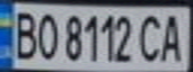1: (81, 10, 100, 62), (100, 11, 118, 62)
2: (112, 10, 136, 63)
8: (60, 10, 84, 62)
A: (157, 10, 187, 63)
B: (9, 7, 39, 61)
C: (136, 11, 163, 63)
O: (33, 9, 60, 62)
